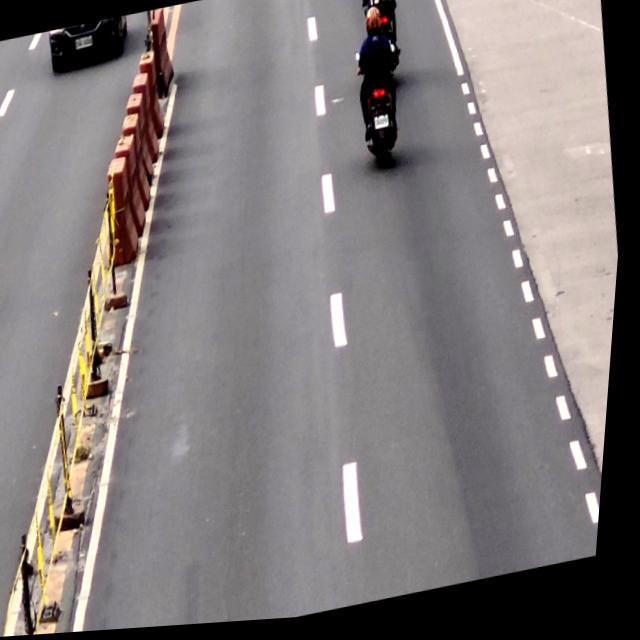License-Plate: (375, 118, 393, 136)
Motorcycle: (349, 46, 411, 180), (353, 0, 412, 96)
